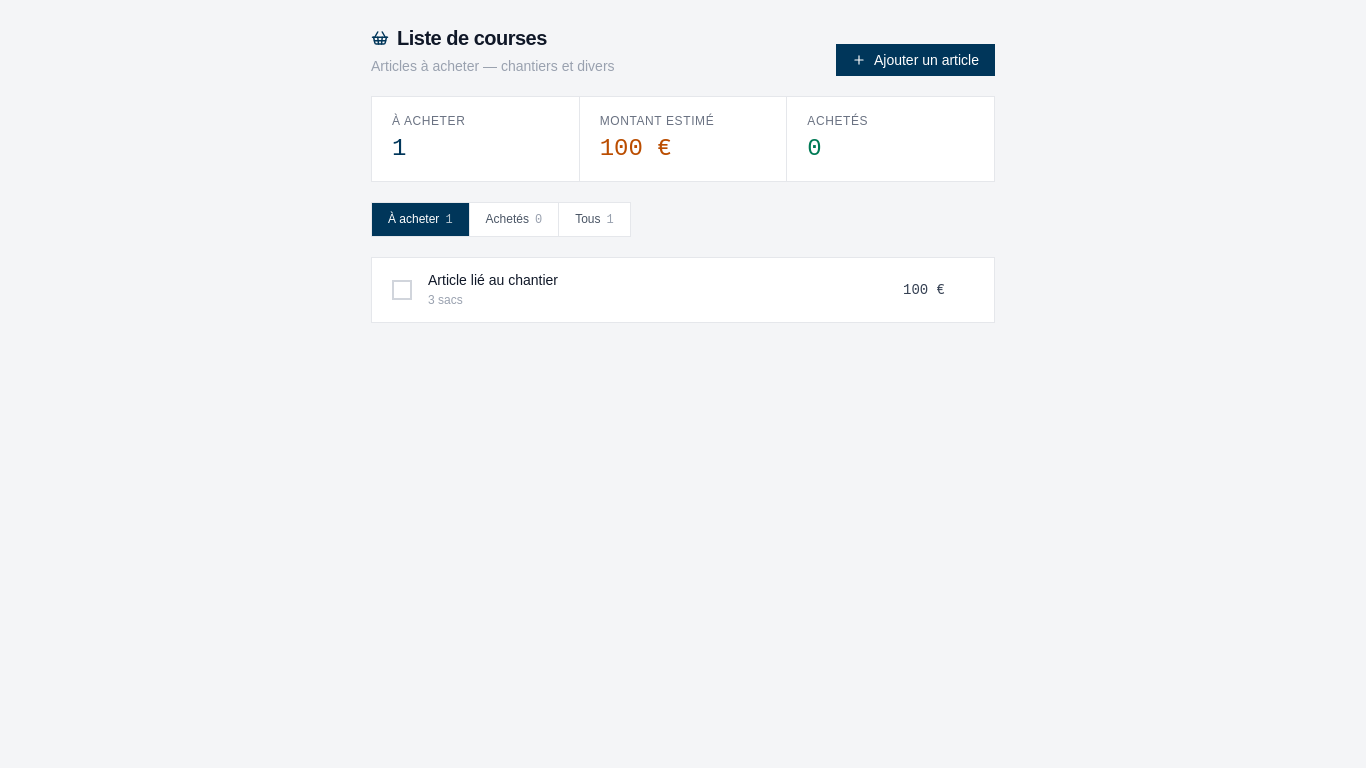
it: shopping-list UI matching Figma Make › opens the reference form and submits a French amount with free-text quantity
Click the button "Ajouter un article": (915, 60) [836,44,995,76]
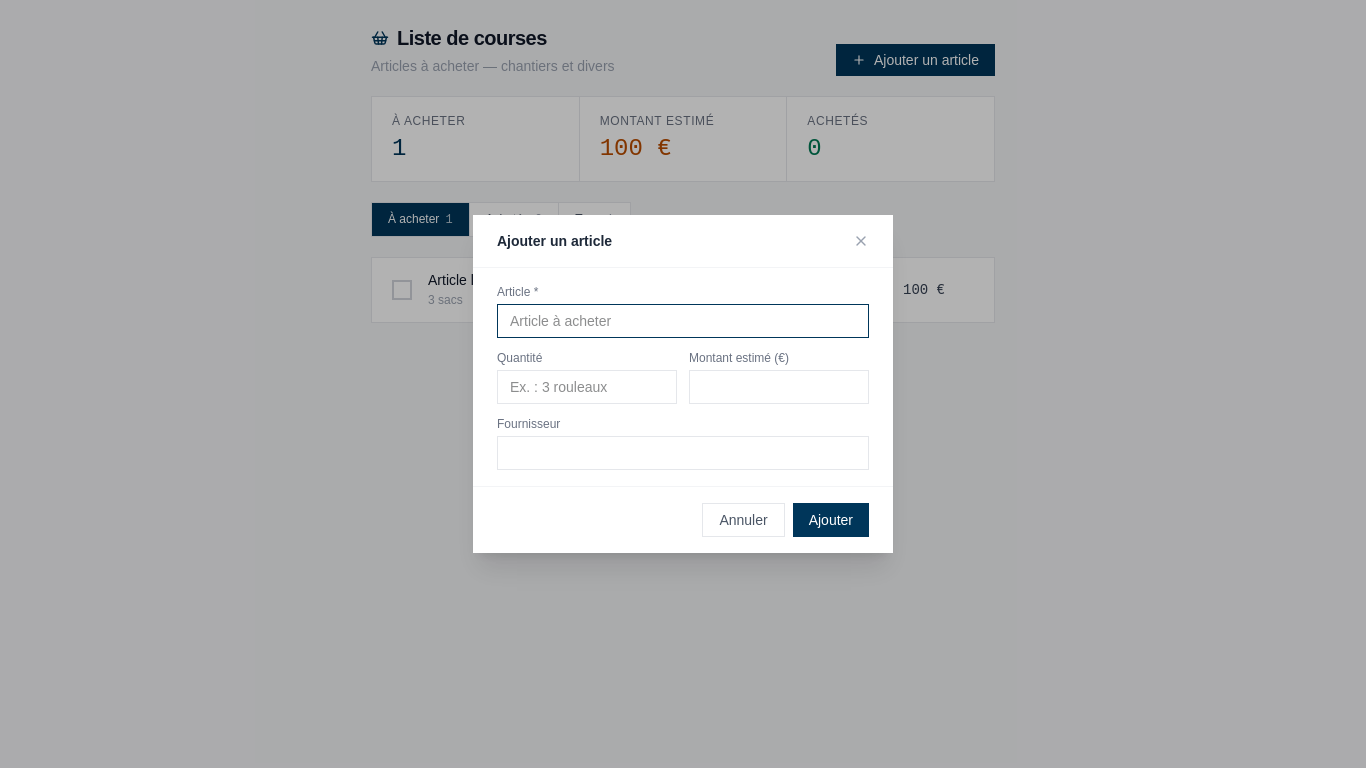
In the field labelled "Article *": (683, 321) [497,304,869,338], type "Article divers"
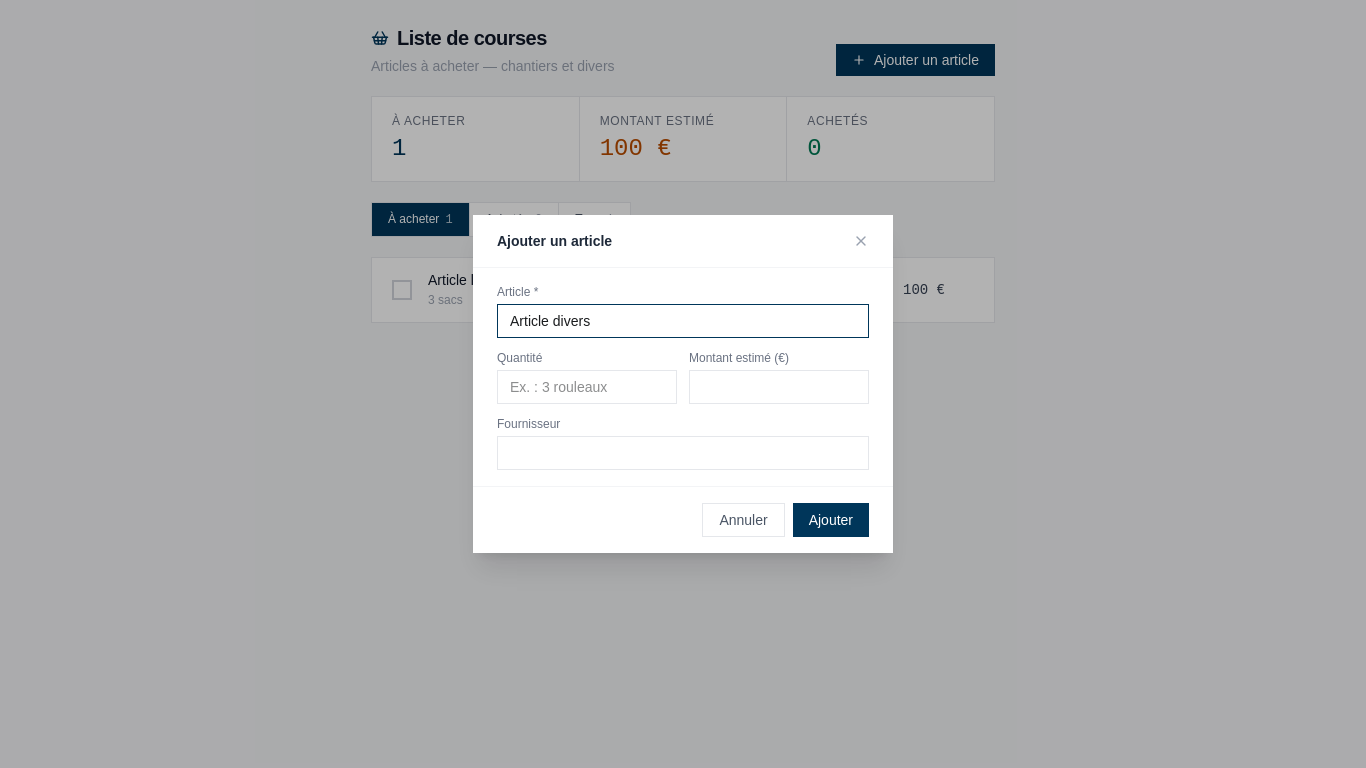
In the field labelled "Quantité": (587, 387) [497,370,677,404], type "2 boîtes"
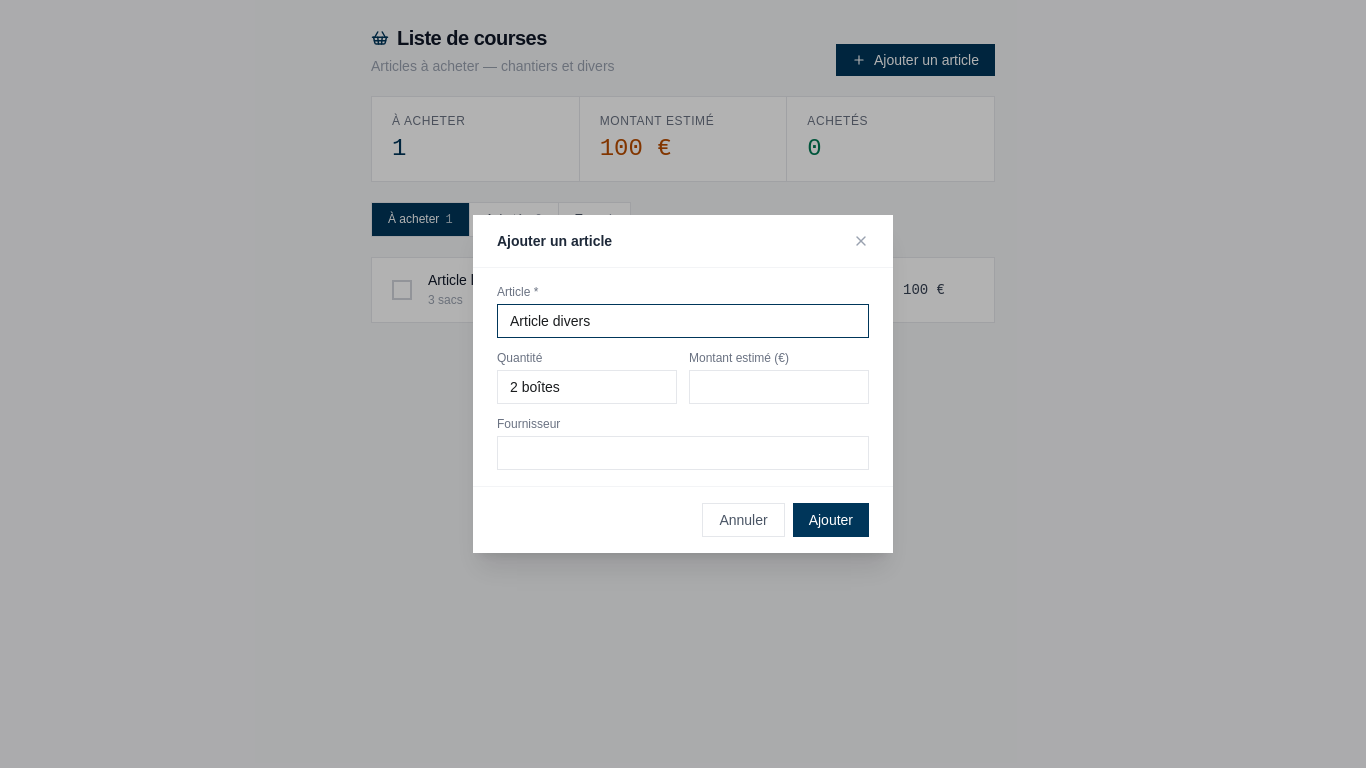
In the field labelled "Montant estimé (€)": (779, 387) [689,370,869,404], type "1 200,50"
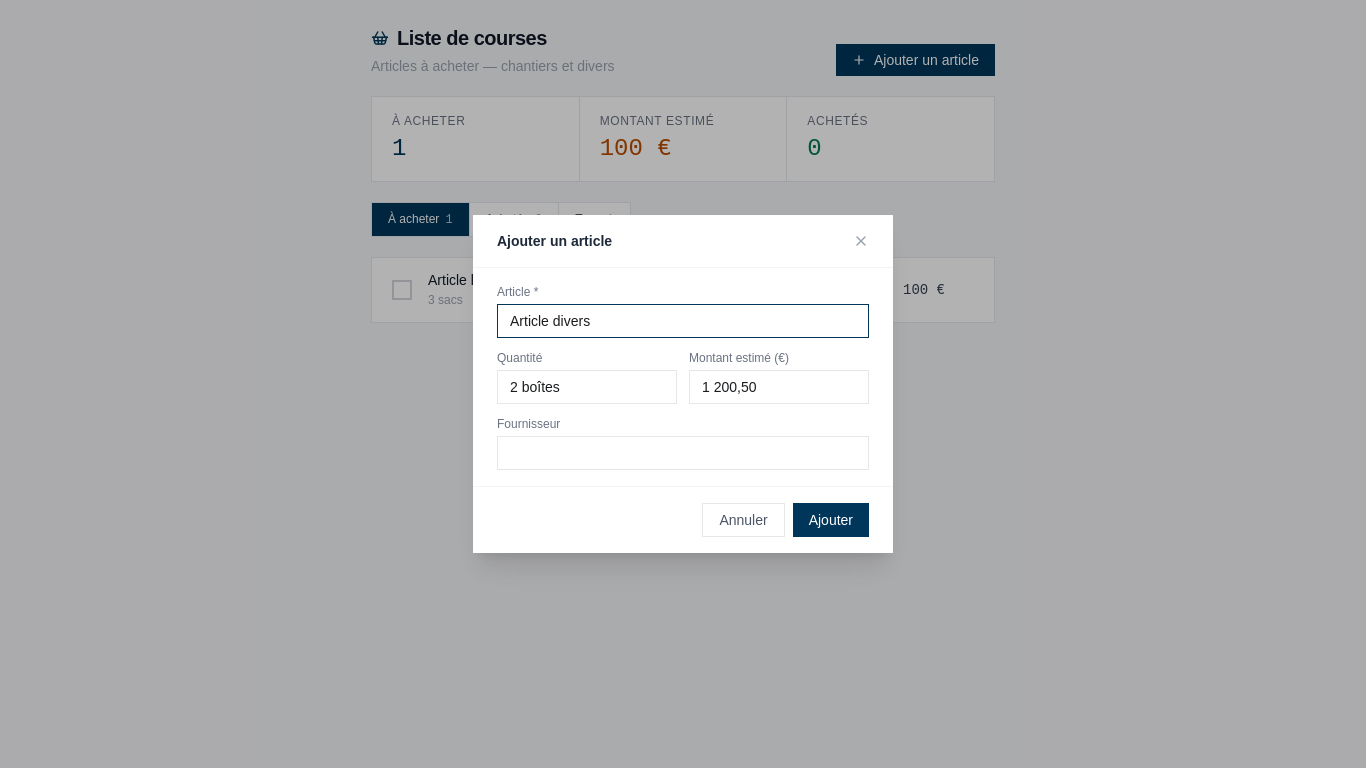
Click the button "Ajouter": (831, 520) [793,503,869,537]
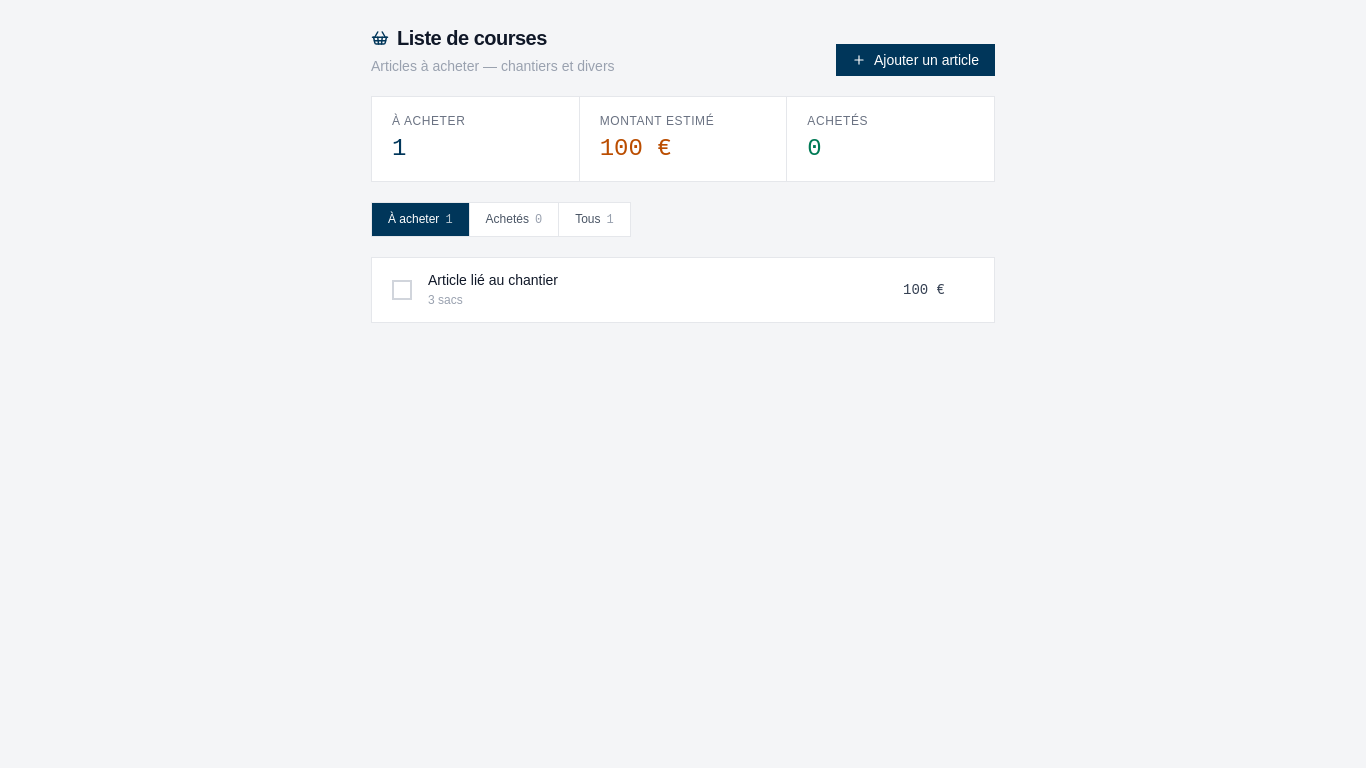
Expected: the dialog is gone
